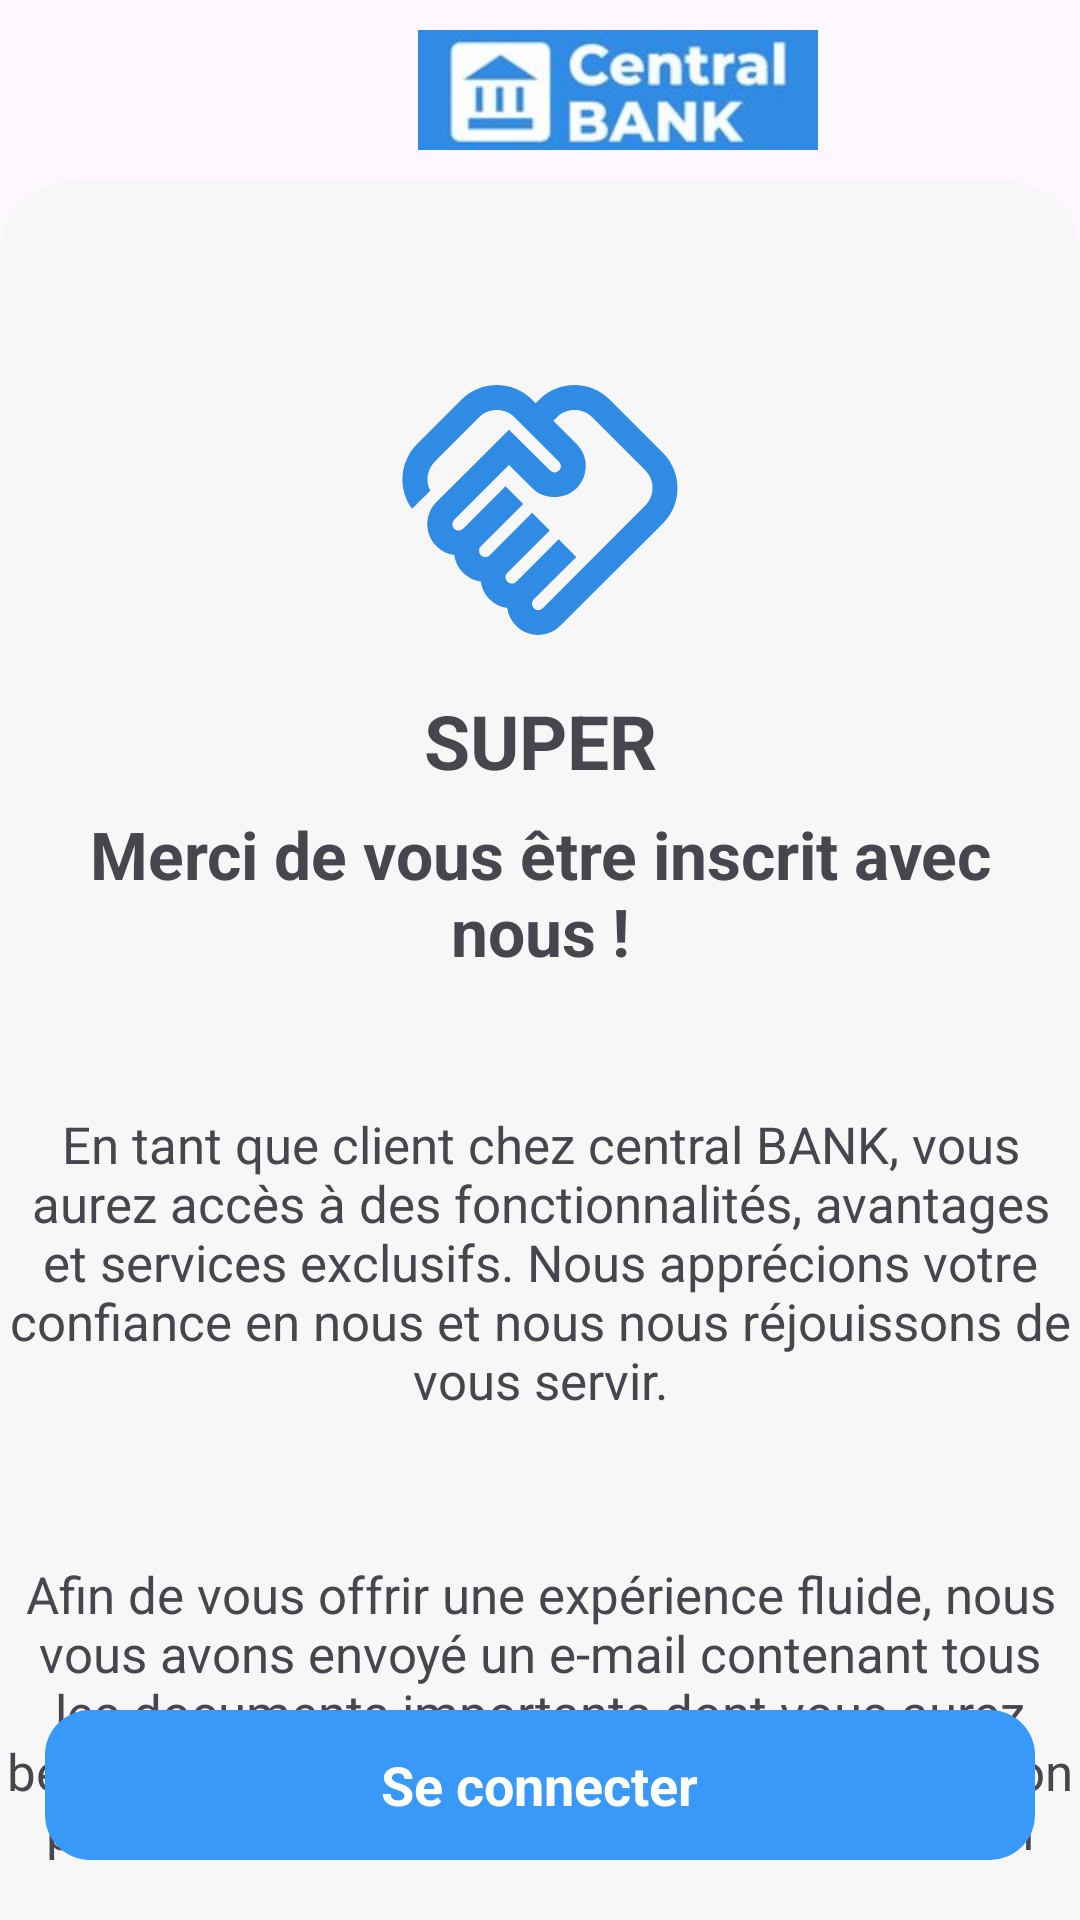

Locate icon controls on the screen. Image size 1080 x 1920, boxes as (x1=x1, y1=y1, x2=x2, y2=y2).
handshake: (x1=402, y1=385, x2=678, y2=635)
